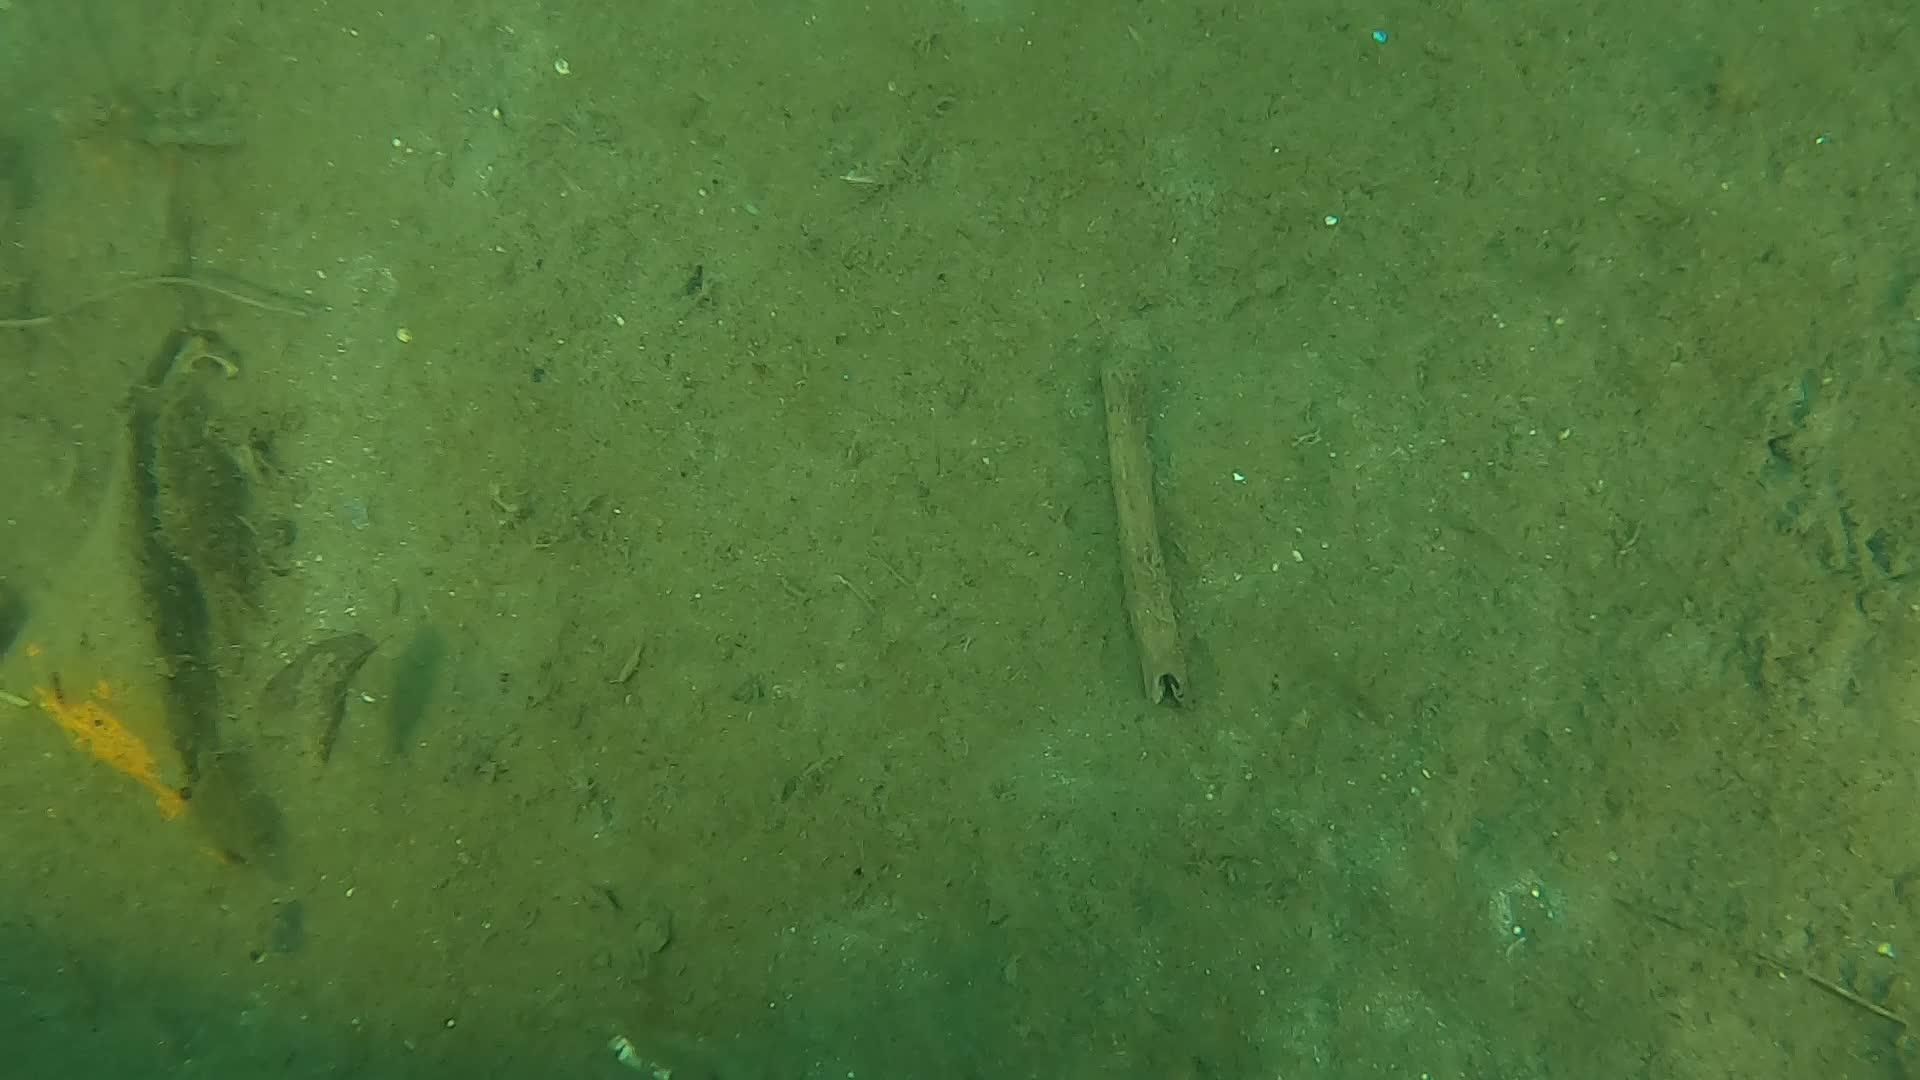wood: (1096, 316, 1189, 708)
